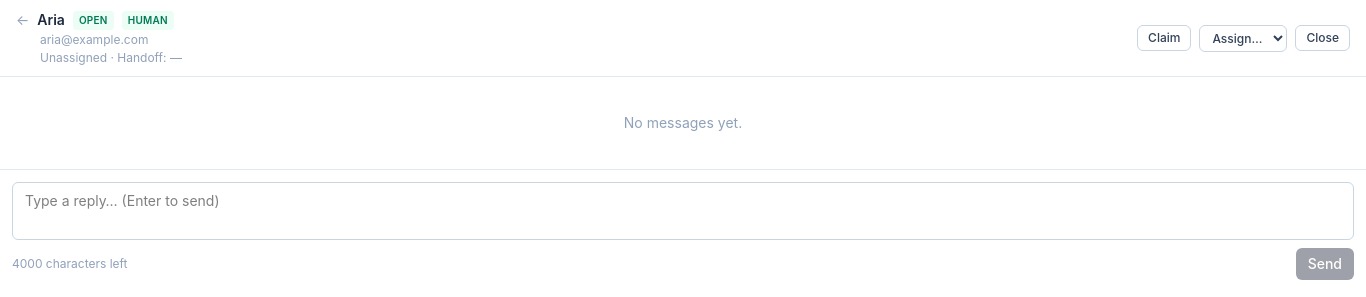
ConversationPane › assigns a conversation via the agent picker
Check: the text "Unassigned" is shown, box [40,50,107,65]
Select "Bryn" in the dropdown named "Assign to agent": (1243, 38) [1199,24,1287,52]
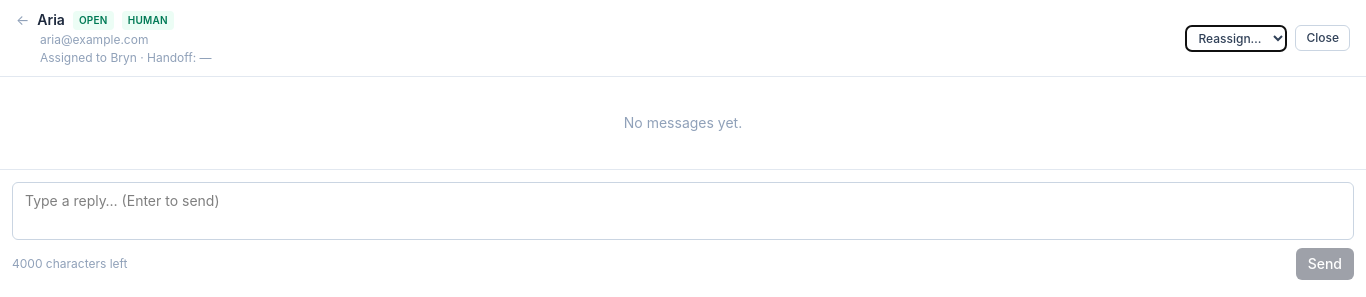
Check: the text "Assigned to Bryn" is shown, box [40,50,137,65]
